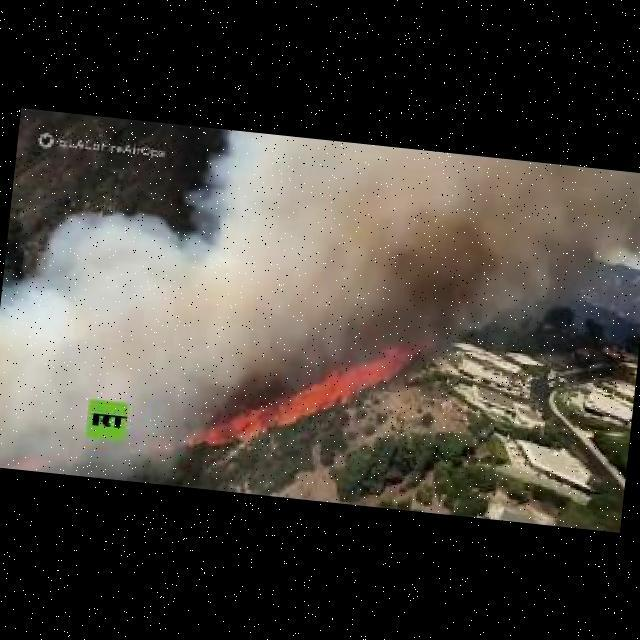Fire: (193, 320, 425, 466)
Smoke: (333, 194, 503, 383)
